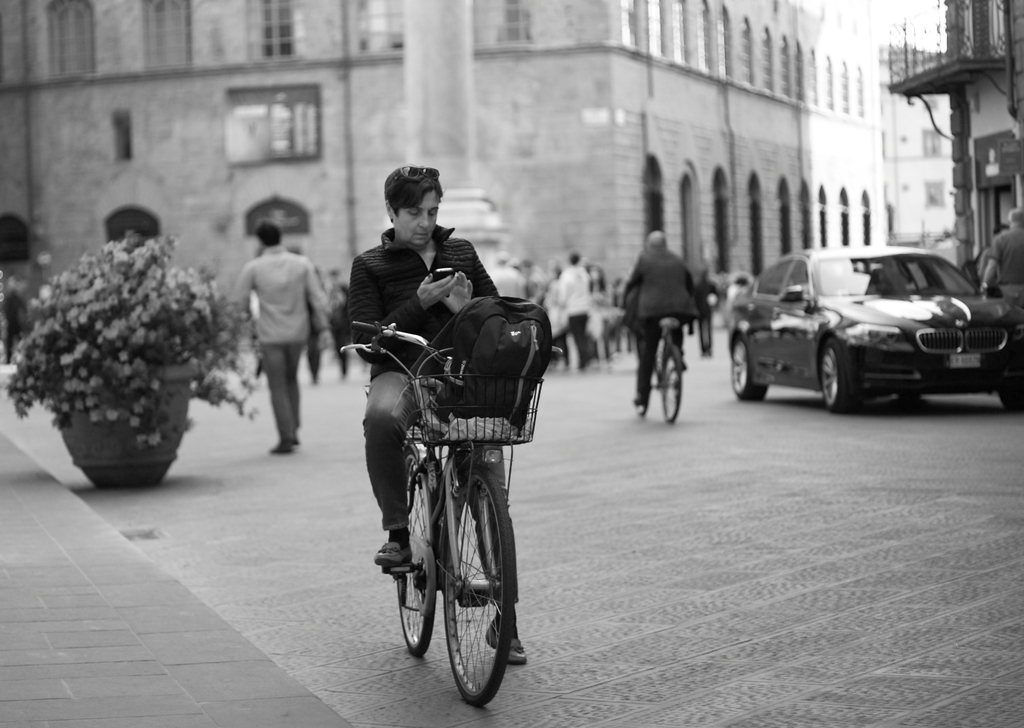Bike_toward: (334, 317, 565, 710)
